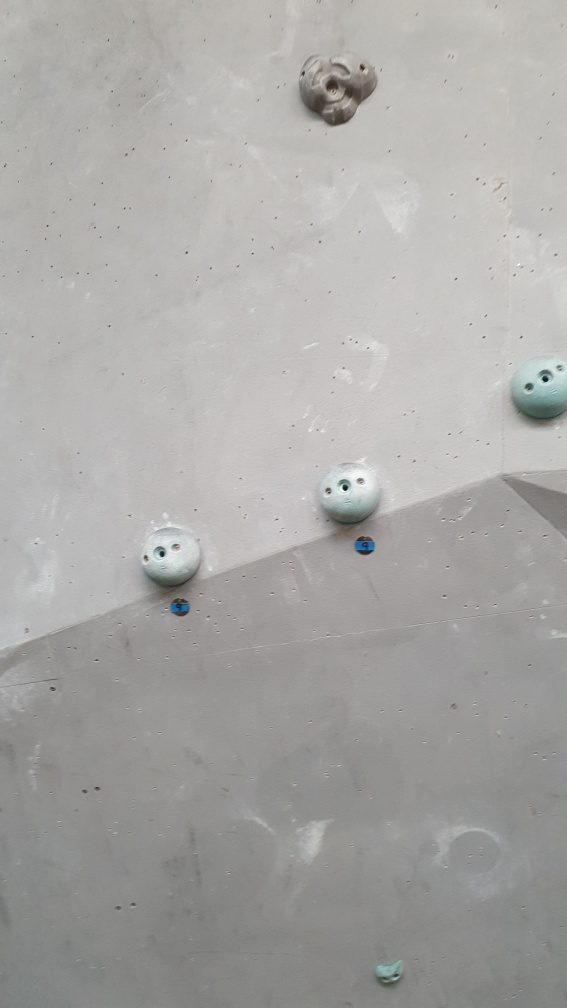Hand Start: (352, 529, 378, 559), (165, 594, 192, 619)
Jug: (292, 47, 382, 129)
Sloper: (138, 520, 206, 593), (506, 351, 567, 425), (317, 460, 383, 526)
